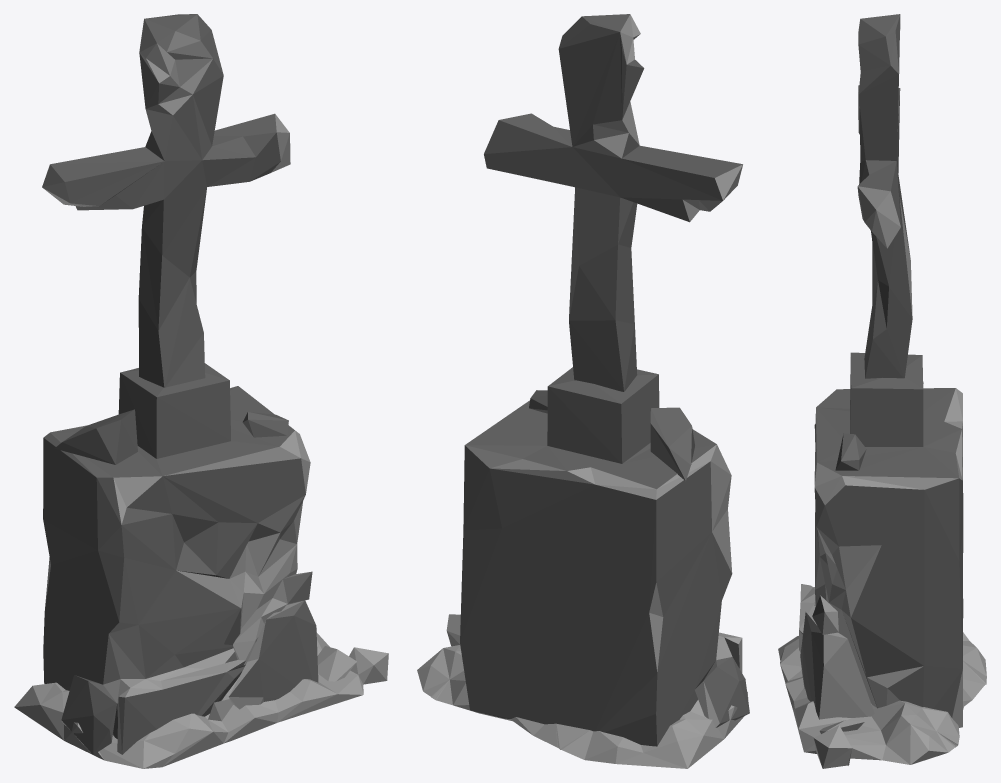
Rendered from MDungeon_Tombstone_Cross_02.FBX.
3 views of the same model, side by side, from view 1: azimuth 30°, elevation 25°; view 2: azimuth 150°, elevation 25°; view 3: azimuth 270°, elevation 25° (orthographic). The views are drawn at different scales.
Parts seen in each view (by area): view 1: MDungeon_Tombstone_Cross_02_LOD0; view 2: MDungeon_Tombstone_Cross_02_LOD0; view 3: MDungeon_Tombstone_Cross_02_LOD0.
Part boxes in pixels (<box>): MDungeon_Tombstone_Cross_02_LOD0: <box>14,14,388,768</box>; MDungeon_Tombstone_Cross_02_LOD0: <box>417,14,749,768</box>; MDungeon_Tombstone_Cross_02_LOD0: <box>778,14,986,768</box>.
Size of what is drawn, in the model's own units: 1.05 by 2.24 by 0.6341.
